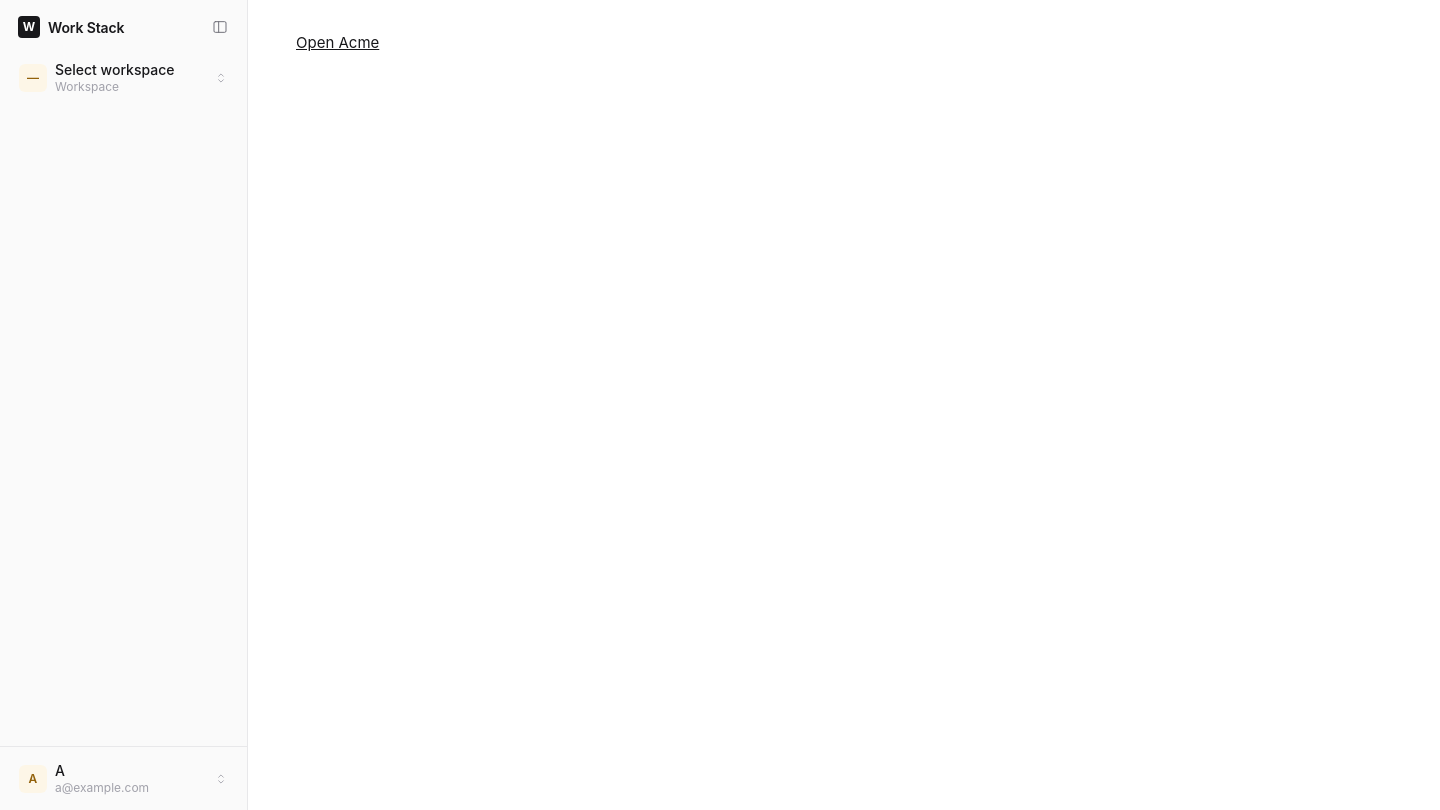
Scenario: AppLayout › surfaces a non-404 failure instead of silently redirecting away
The image size is (1440, 810).
Click the link "Open Acme" at point(338, 42), box [296,33,379,52]
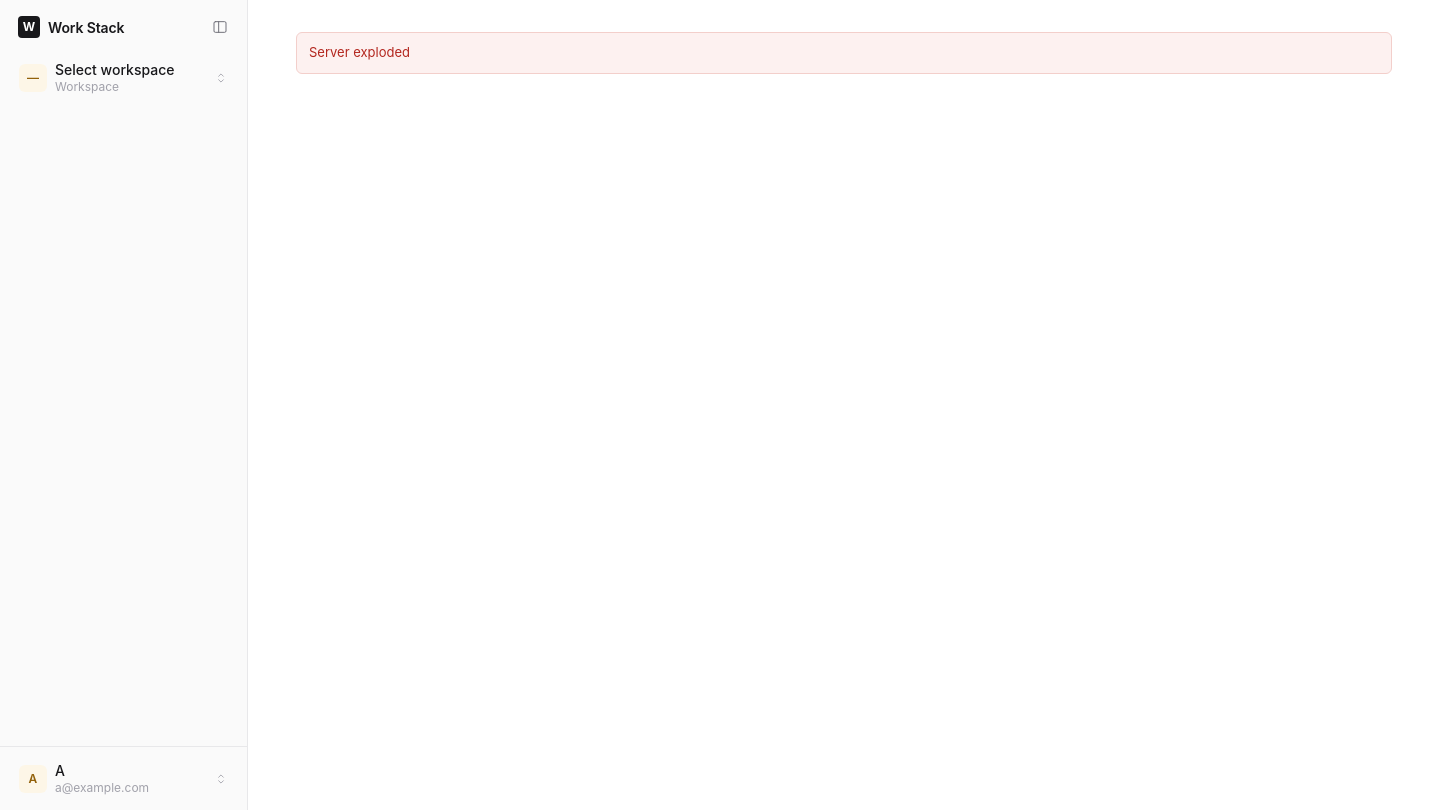
Now the text "Server exploded" is shown, box [296,32,1392,74]
Now the link "Open Acme" is gone
